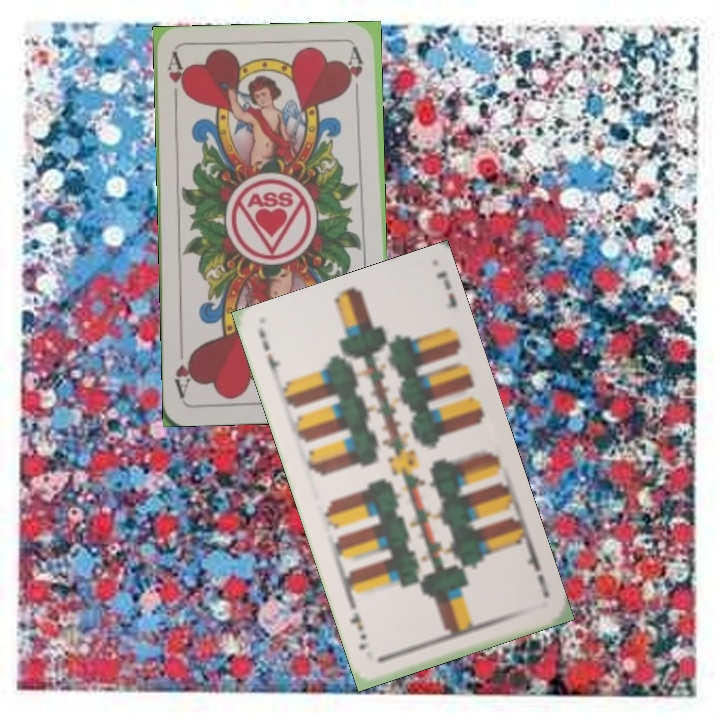E7: (523, 543, 552, 600), (255, 328, 282, 386)
HA: (163, 51, 188, 110)
